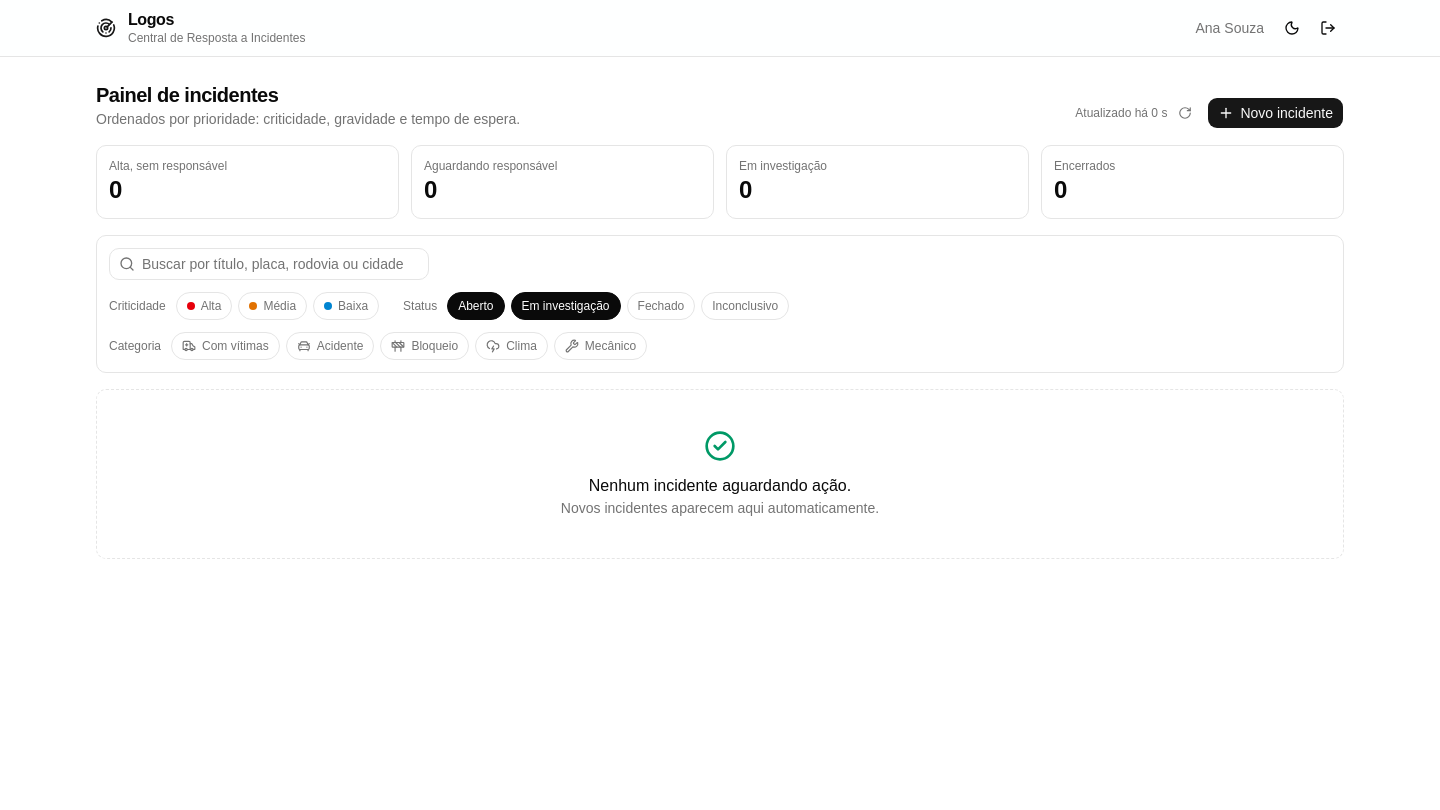
Test: rotas protegidas e sessão › sair limpa o token e volta ao login
Click the button named "Sair": {"x": 1328, "y": 28} [1312,12,1344,44]
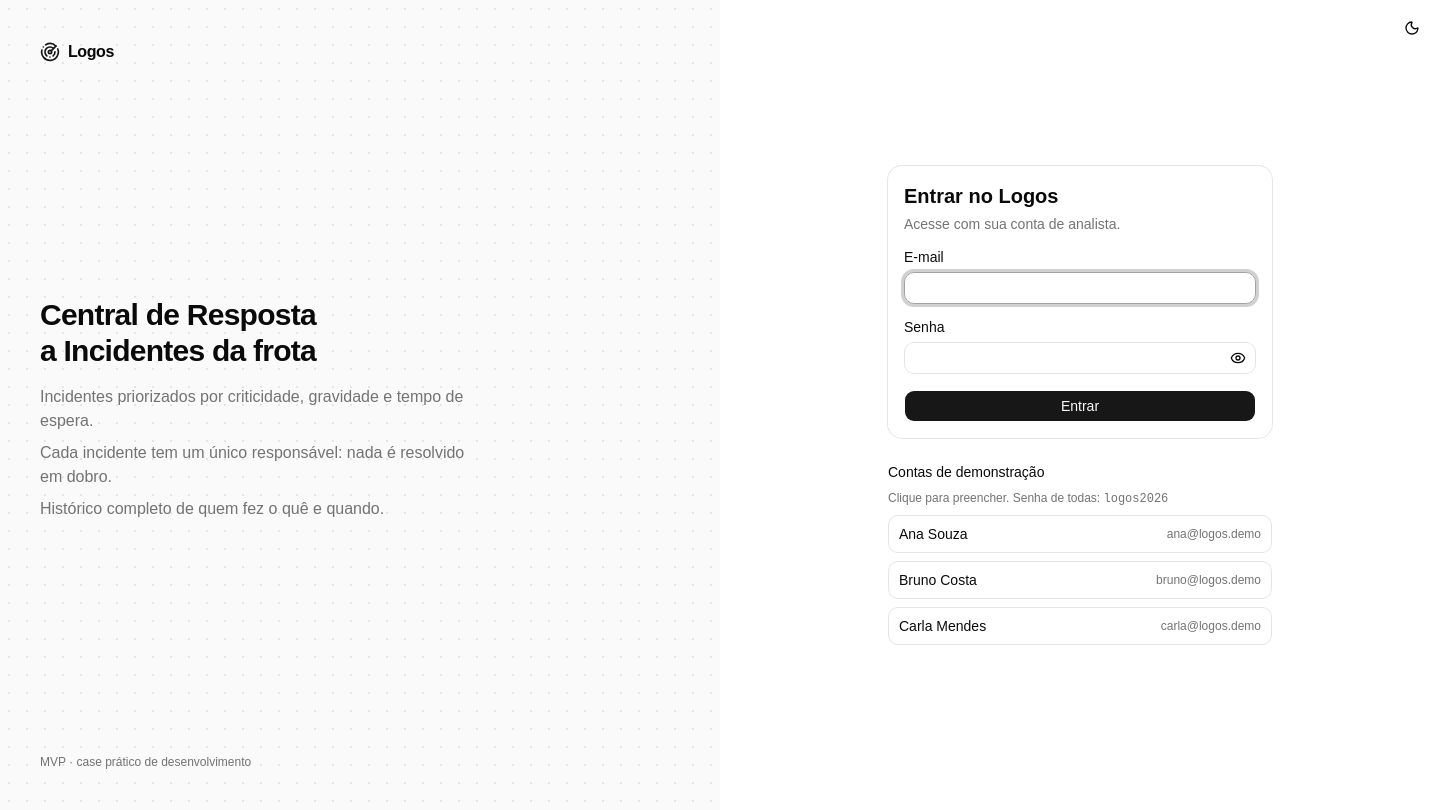
expect the heading "Entrar no Logos" is shown: met, box [904,184,1058,206]
